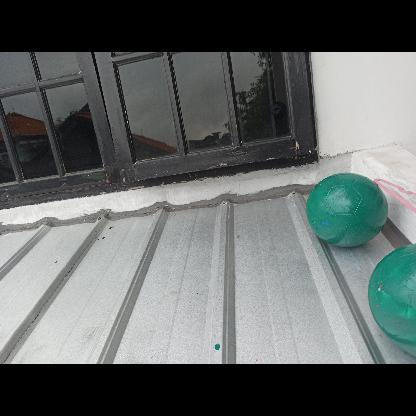green_ball: (305, 169, 387, 251)
